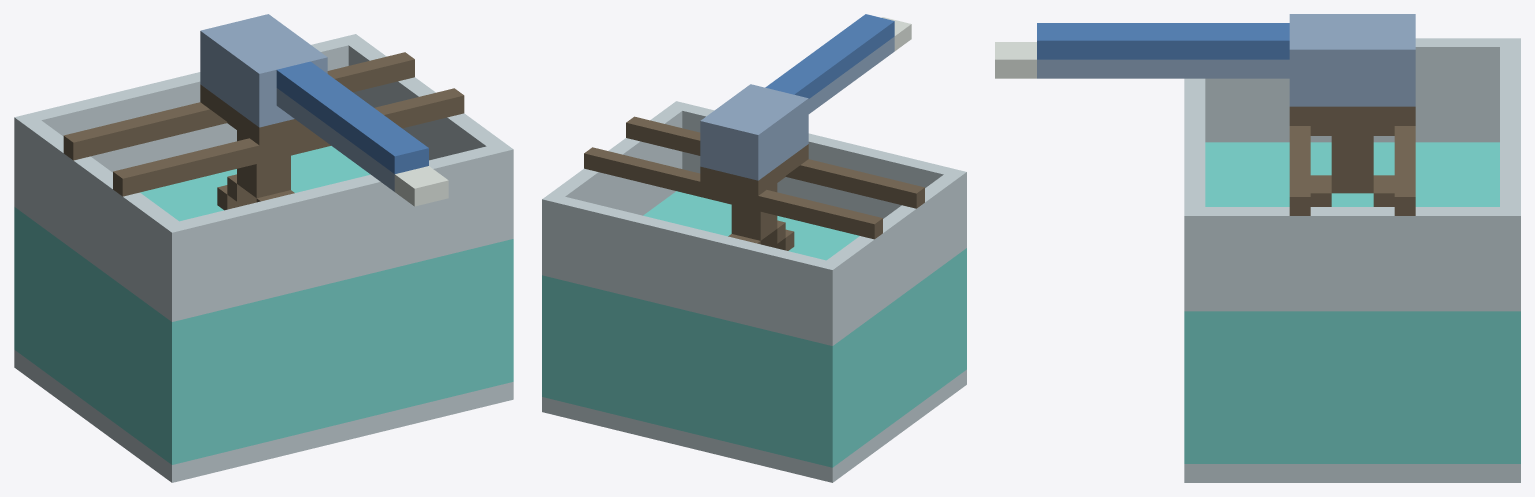
The model's file is tower_weapon3.obj.
The picture shows the model from 3 angles, left to right: view 1: azimuth 30°, elevation 25°; view 2: azimuth 150°, elevation 25°; view 3: azimuth 270°, elevation 25°; orthographic projection. The views are drawn at different scales.
Bounding box in the file's own units: 20 × 19 × 25.
Materials: 1 (1 with a texture image).
